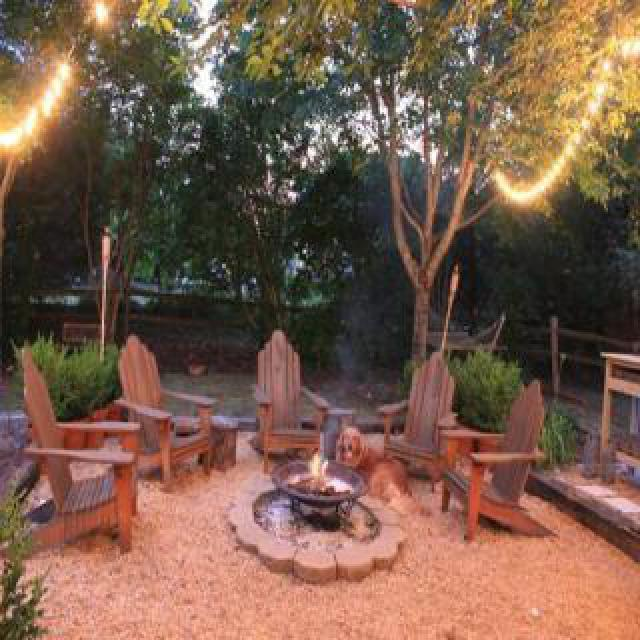Fire: (302, 450, 340, 500)
Smoke: (322, 288, 376, 446)
